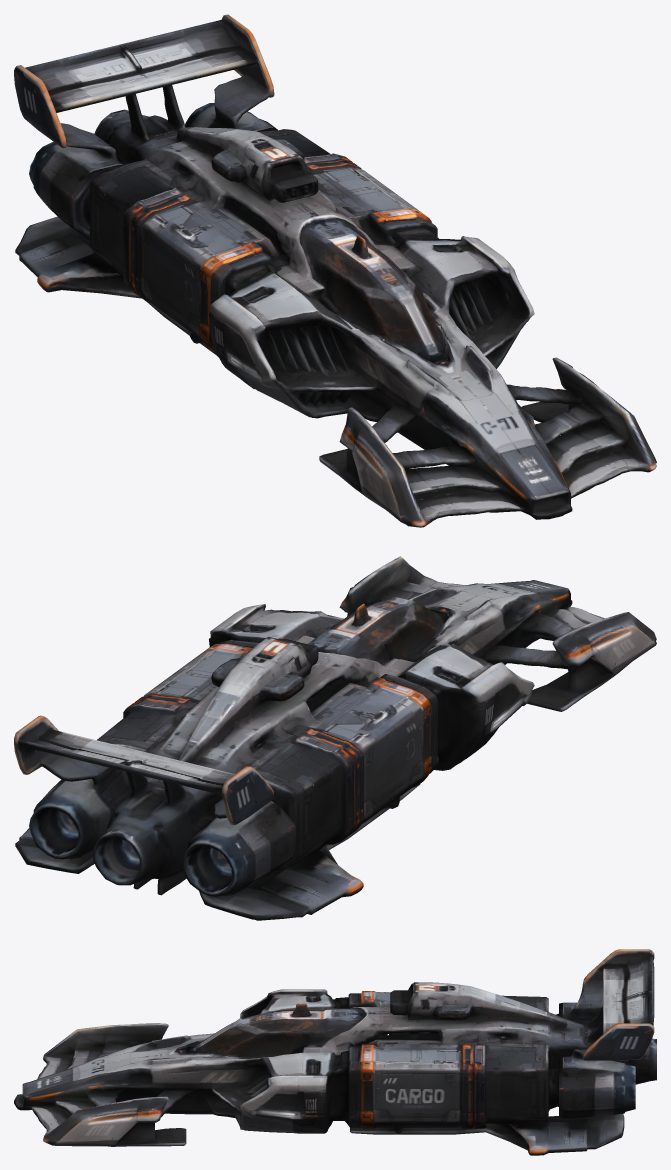
Rendered from model_ship_corvette_08.glb.
The picture shows the model from 3 angles, top to bottom: view 1: azimuth 30°, elevation 25°; view 2: azimuth 150°, elevation 25°; view 3: azimuth 270°, elevation 25°; orthographic projection. The views are drawn at different scales.
Parts seen in each view (by area): view 1: tripo_node_2a282a11-3e89-4d57-931a-3da98ebcef31; view 2: tripo_node_2a282a11-3e89-4d57-931a-3da98ebcef31; view 3: tripo_node_2a282a11-3e89-4d57-931a-3da98ebcef31.
Part boxes in pixels (x1,y1,x2,y2): tripo_node_2a282a11-3e89-4d57-931a-3da98ebcef31: [14, 14, 656, 527]; tripo_node_2a282a11-3e89-4d57-931a-3da98ebcef31: [14, 556, 656, 920]; tripo_node_2a282a11-3e89-4d57-931a-3da98ebcef31: [14, 949, 656, 1155].
Bounding box in the file's own units: 0.416 × 0.2012 × 0.998.
Materials: 1 (1 with a texture image).
